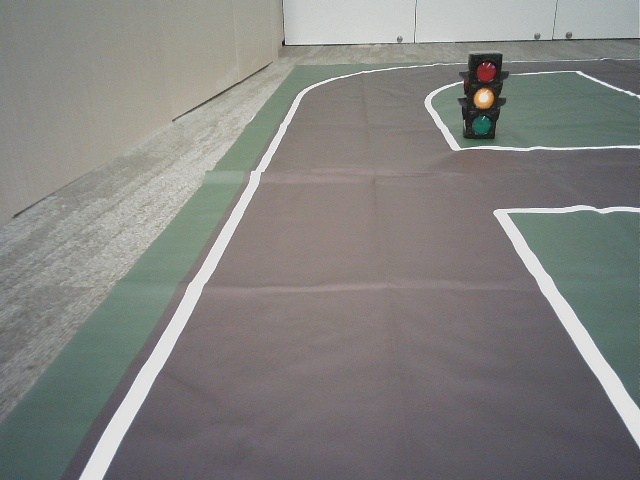yellow: (472, 54, 496, 137)
